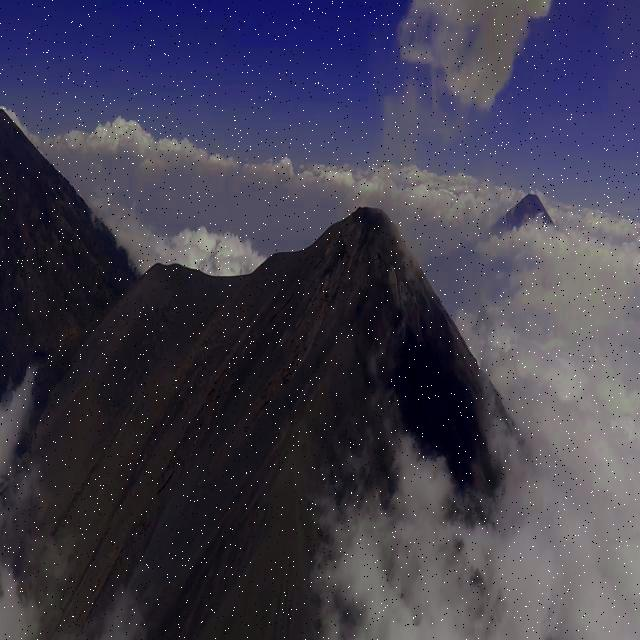Plume: (396, 1, 560, 114)
Summit: (253, 196, 462, 352)
